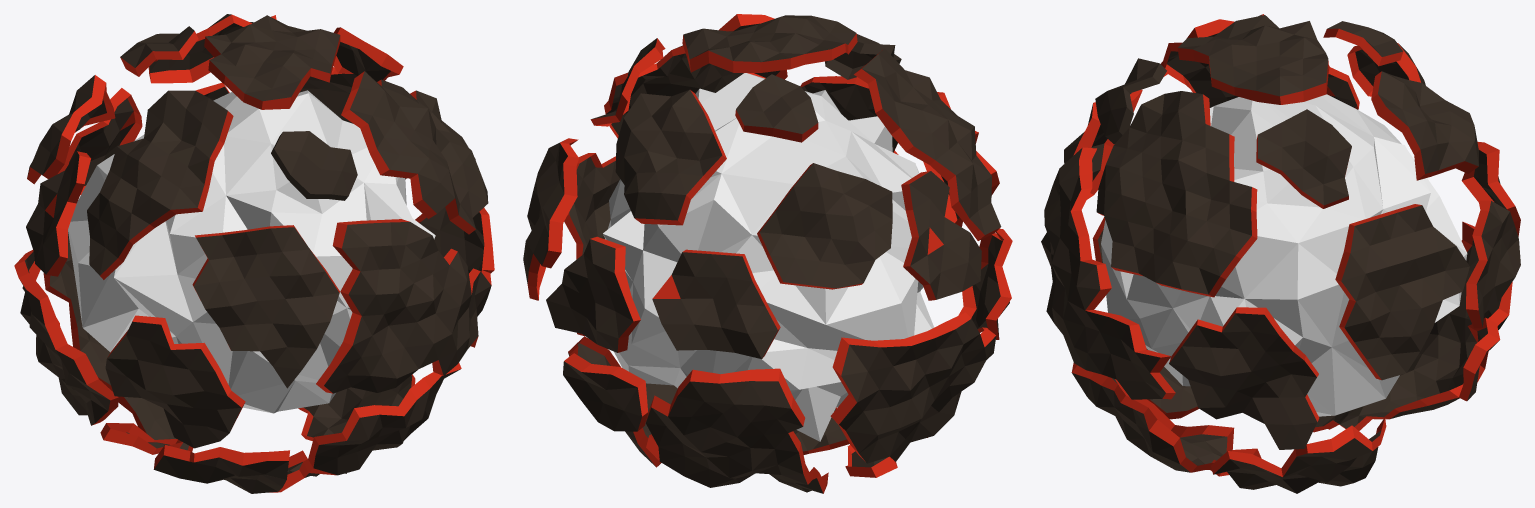
Rendered from fail0.fbx.
3 views of the same model, side by side, from view 1: azimuth 30°, elevation 25°; view 2: azimuth 150°, elevation 25°; view 3: azimuth 270°, elevation 25° (orthographic).
Visible parts, largest first — view 1: bad planet, core; view 2: bad planet, core; view 3: bad planet, core.
Part boxes in pixels (<box>): bad planet: <box>14,14,494,493</box>; core: <box>68,90,435,413</box>; bad planet: <box>523,14,1012,493</box>; core: <box>603,73,934,441</box>; bad planet: <box>1041,14,1520,493</box>; core: <box>1101,94,1467,416</box>.
Size of the model in its own units: 252 by 250 by 252.
